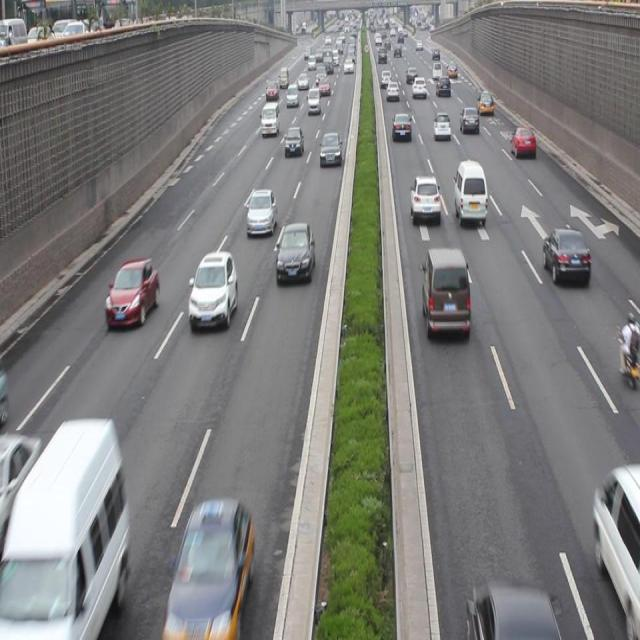car: (166, 499, 253, 640), (105, 257, 158, 328), (189, 251, 238, 327), (543, 226, 591, 287), (276, 222, 314, 284), (409, 172, 439, 225), (246, 188, 276, 239), (318, 131, 342, 166), (510, 124, 535, 156), (391, 111, 413, 142), (284, 125, 304, 156), (458, 105, 478, 134), (432, 112, 451, 140)
truck: (0, 419, 128, 640), (420, 246, 470, 338), (452, 160, 487, 223), (260, 100, 280, 133)
